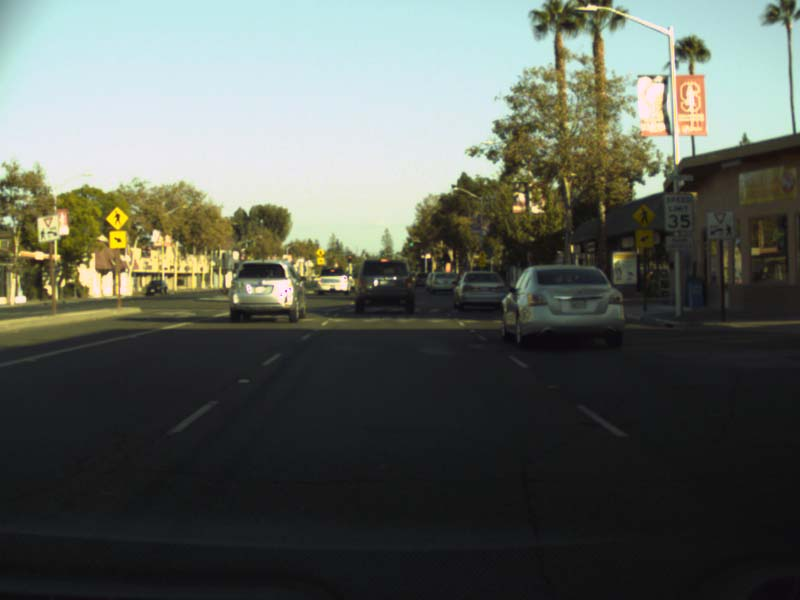Green: (407, 237, 413, 248)
